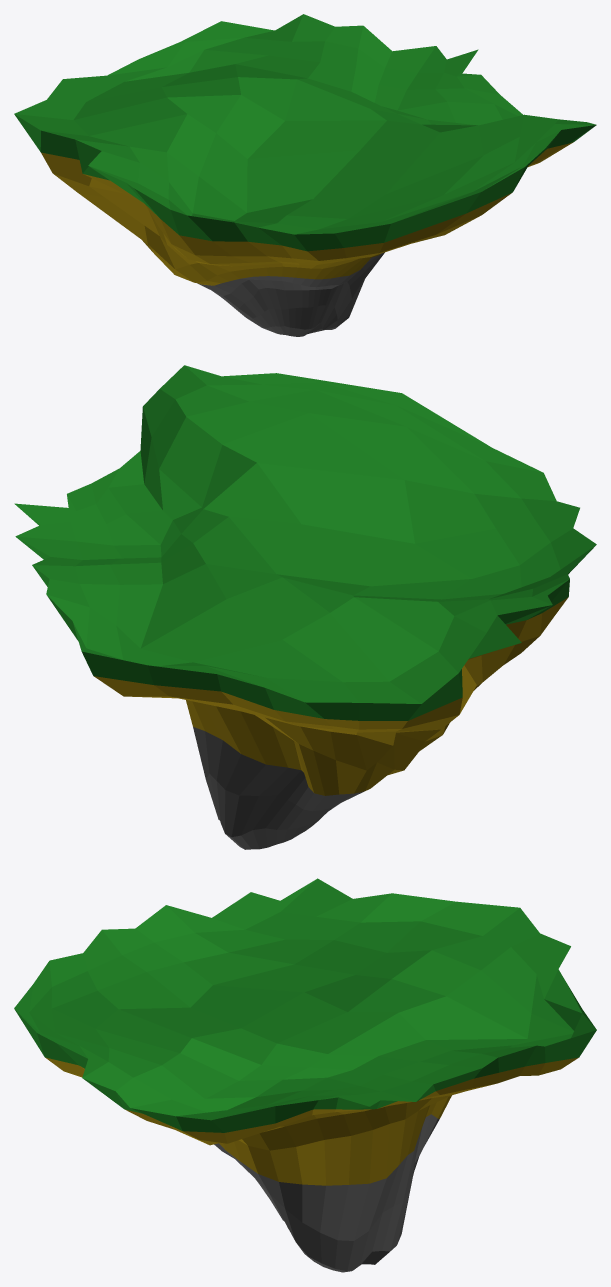
Rendered from Platform_ground_7.fbx.
The picture shows the model from 3 angles, top to bottom: view 1: azimuth 30°, elevation 25°; view 2: azimuth 150°, elevation 25°; view 3: azimuth 270°, elevation 25°; orthographic projection. The views are drawn at different scales.
Parts seen in each view (by area): view 1: Sphere; view 2: Sphere; view 3: Sphere.
Part boxes in pixels (bbox=[...]): Sphere: bbox=[14, 14, 596, 336]; Sphere: bbox=[14, 365, 596, 849]; Sphere: bbox=[14, 878, 596, 1272].
Bounding box in the file's own units: 319 × 185 × 345.
